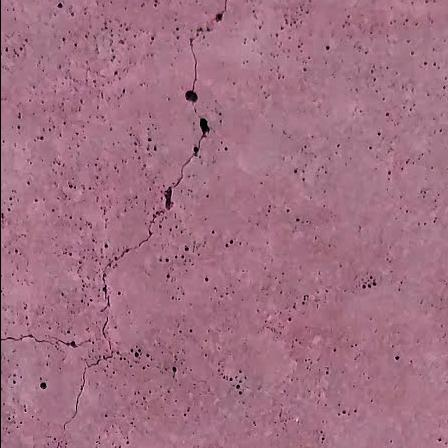crack: (26, 0, 259, 437), (0, 329, 64, 351), (43, 336, 95, 350)
